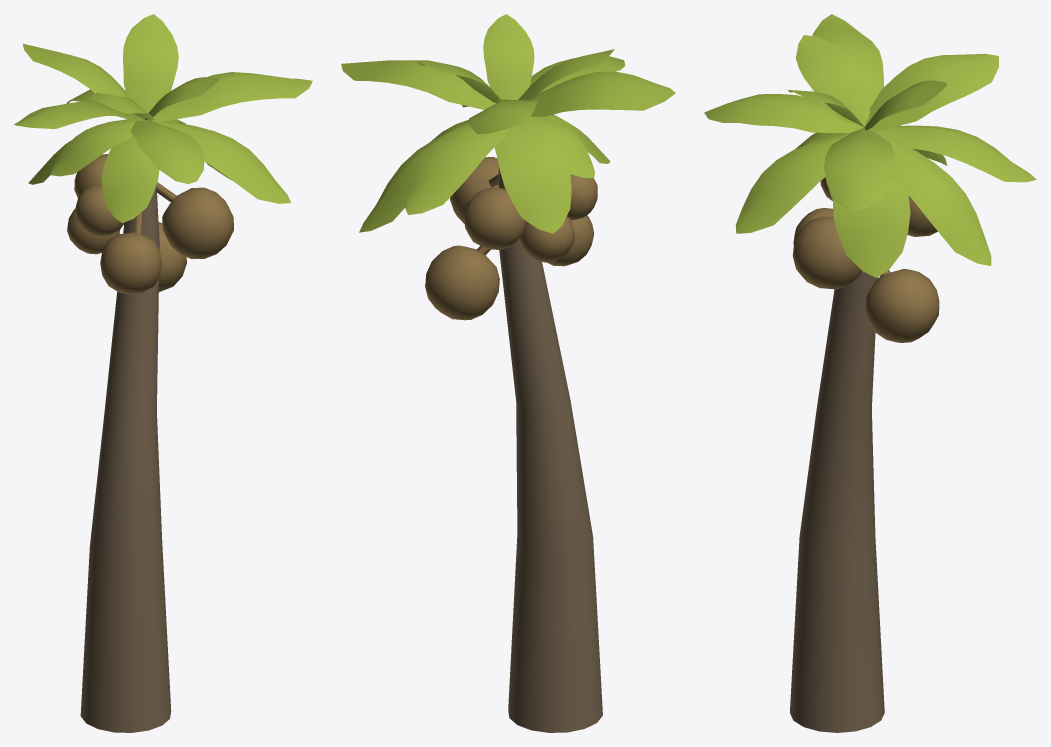
The model's file is Arvore3.fbx.
3 renders of one model, left to right at view 1: azimuth 30°, elevation 25°; view 2: azimuth 150°, elevation 25°; view 3: azimuth 270°, elevation 25°, orthographic. The views are drawn at different scales.
Parts seen in each view (by area): view 1: Tronto, Folhas, Frutas; view 2: Tronto, Folhas, Frutas; view 3: Folhas, Tronto, Frutas.
Part boxes in pixels (x1,y1,x2,y2): Tronto: (80,185,171,732); Folhas: (14,14,312,223); Frutas: (67,154,233,294); Tronto: (498,167,602,732); Folhas: (341,14,675,233); Frutas: (425,156,597,320); Folhas: (704,14,1036,277); Tronto: (790,271,884,732); Frutas: (792,177,939,342).
Size of the model in its own units: 248 by 493 by 223.
